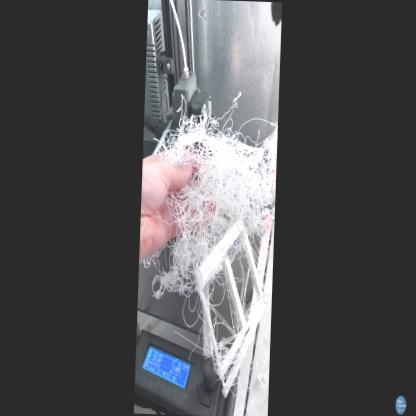fail: (157, 103, 281, 401)
